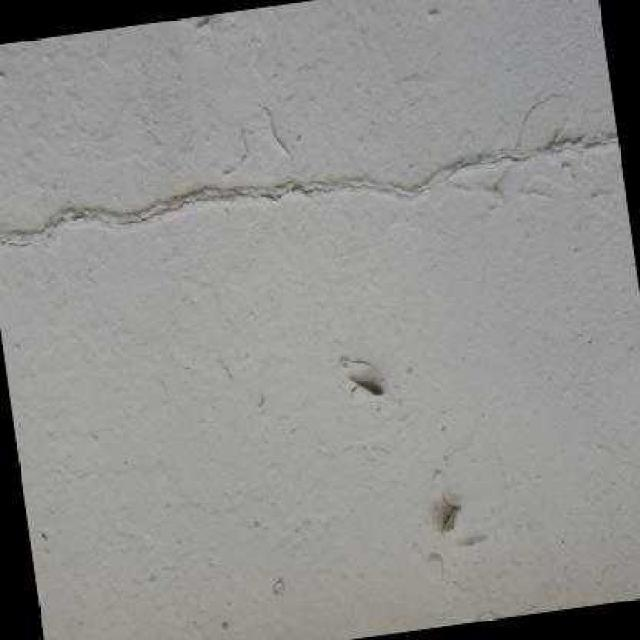D00: (0, 132, 618, 249)
